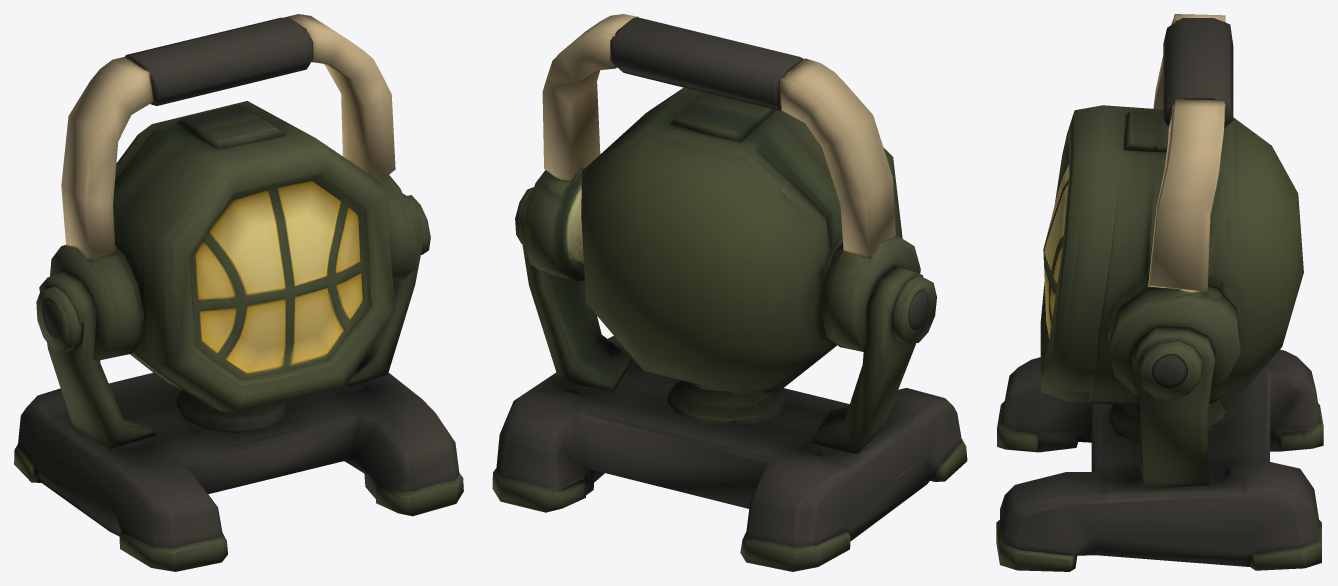
The model's file is LSReal_WorkLamp.fbx.
The picture shows the model from 3 angles, left to right: view 1: azimuth 30°, elevation 25°; view 2: azimuth 150°, elevation 25°; view 3: azimuth 270°, elevation 25°; orthographic projection. The views are drawn at different scales.
Visible parts, largest first — view 1: tripo_node_73402d04-4651-4e03-91a6-28181457be3d; view 2: tripo_node_73402d04-4651-4e03-91a6-28181457be3d; view 3: tripo_node_73402d04-4651-4e03-91a6-28181457be3d.
Part boxes in pixels (x1,y1,x2,y2): tripo_node_73402d04-4651-4e03-91a6-28181457be3d: [14, 14, 463, 571]; tripo_node_73402d04-4651-4e03-91a6-28181457be3d: [492, 14, 967, 571]; tripo_node_73402d04-4651-4e03-91a6-28181457be3d: [996, 14, 1323, 571].
Bounding box in the file's own units: 37.73 × 42 × 28.52.
1 material, 1 textured.
